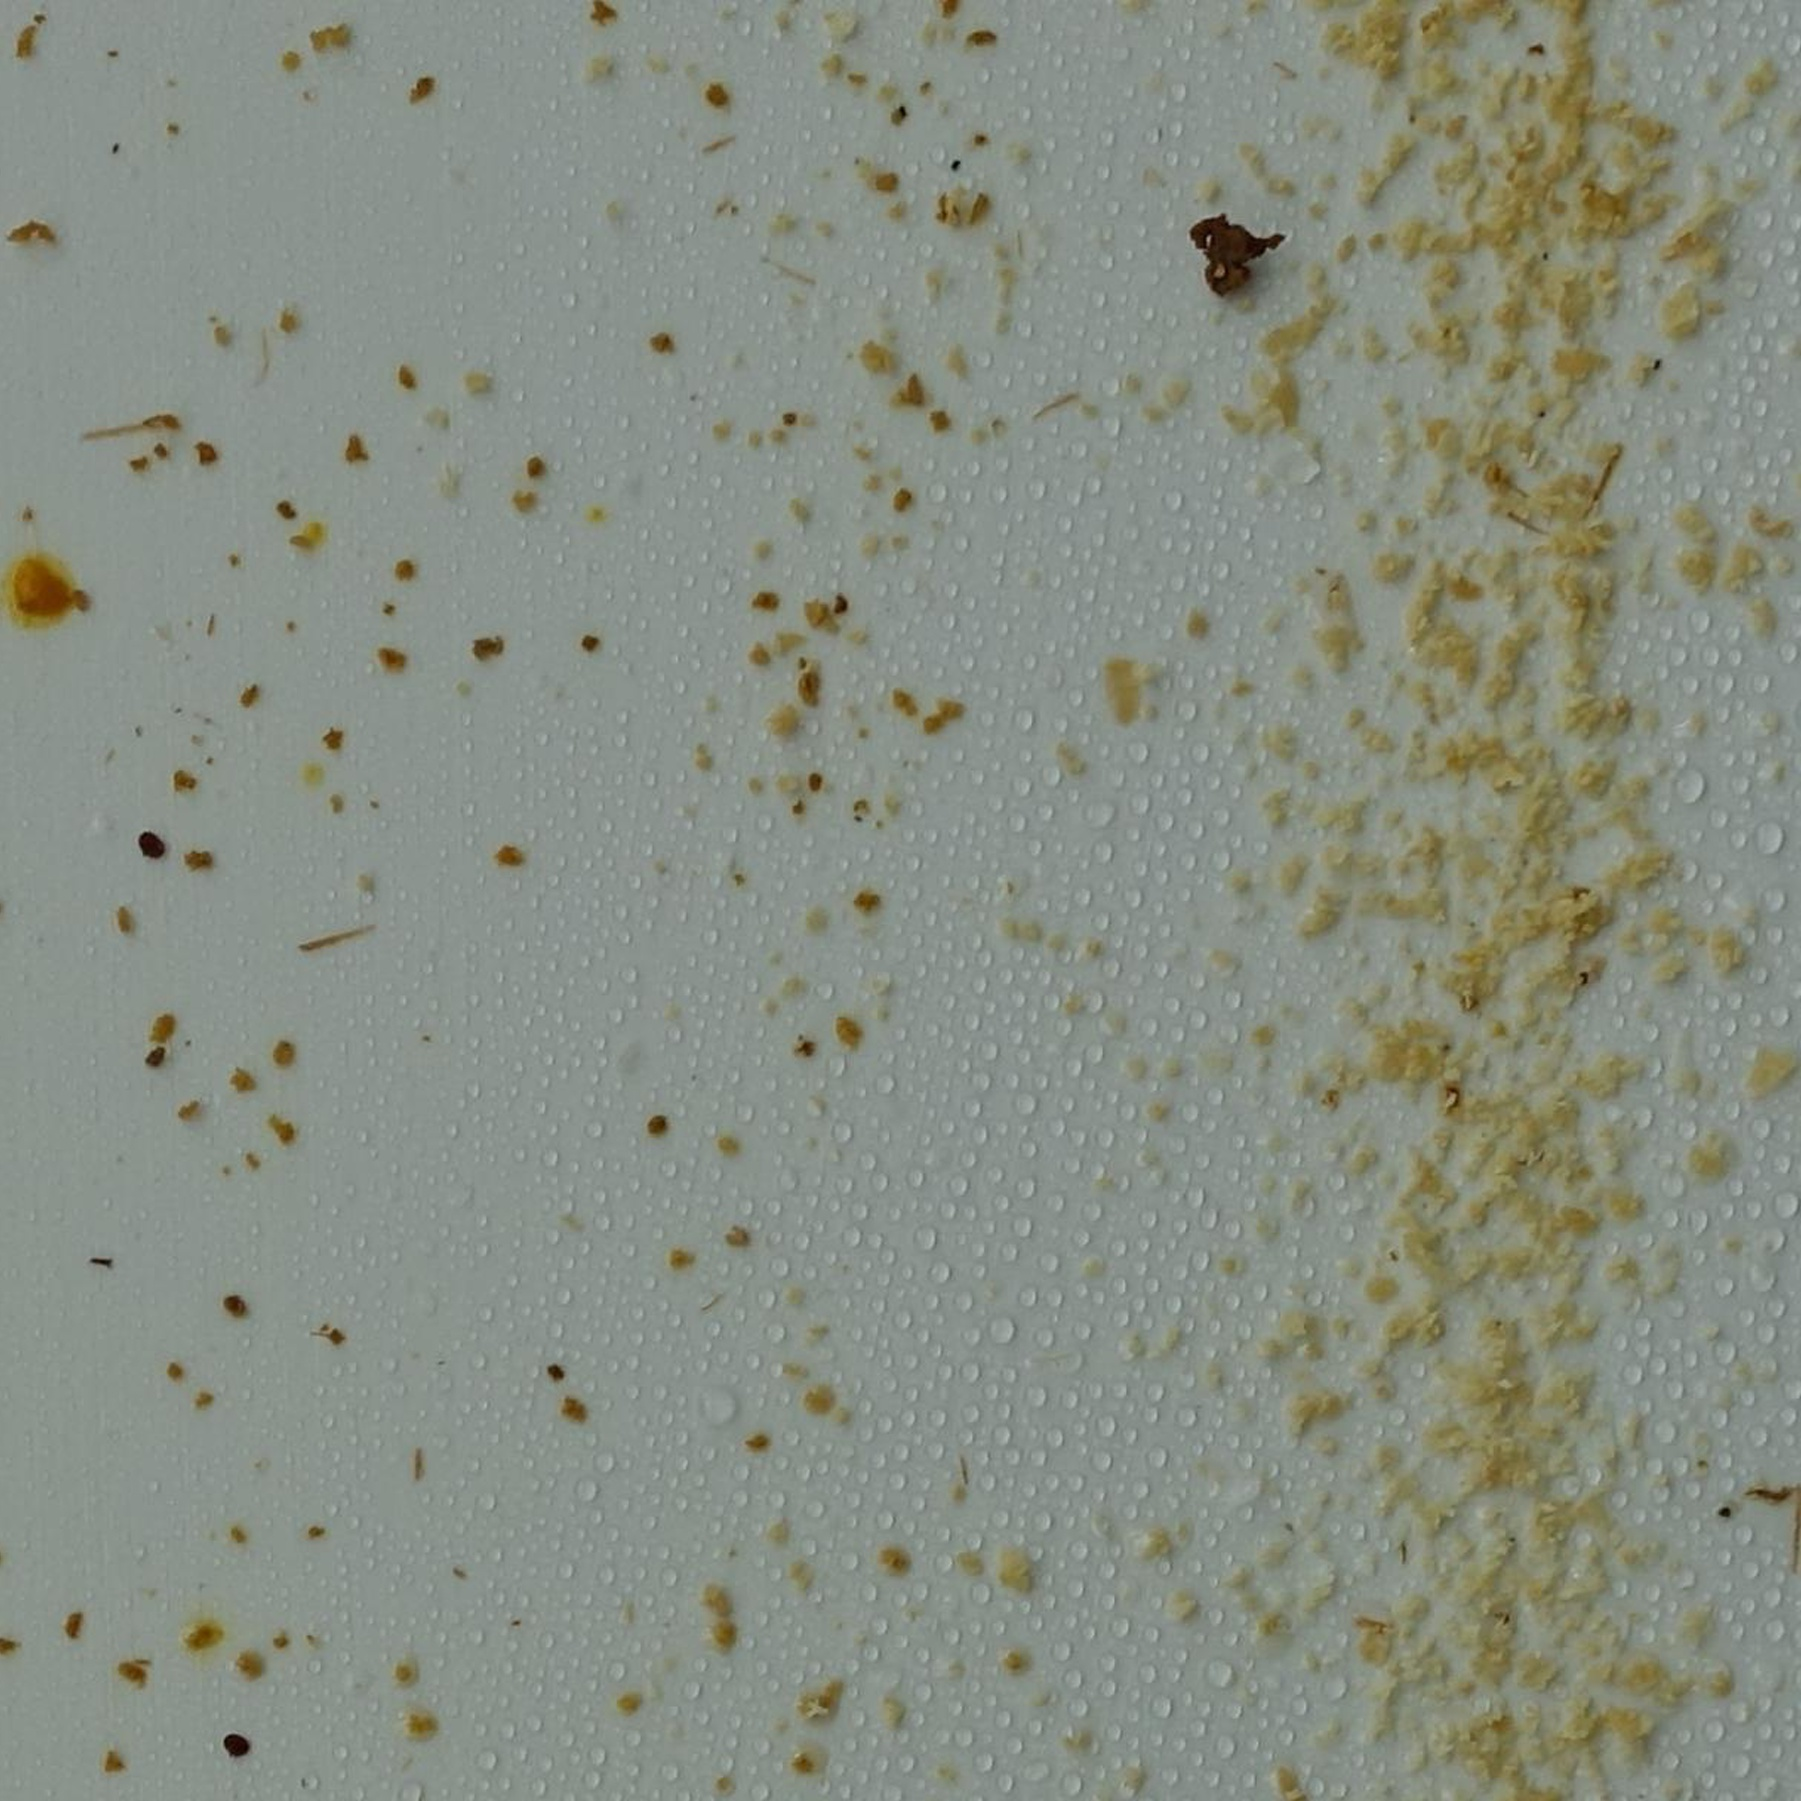Varroa: (135, 833, 162, 859), (223, 1730, 247, 1755)
